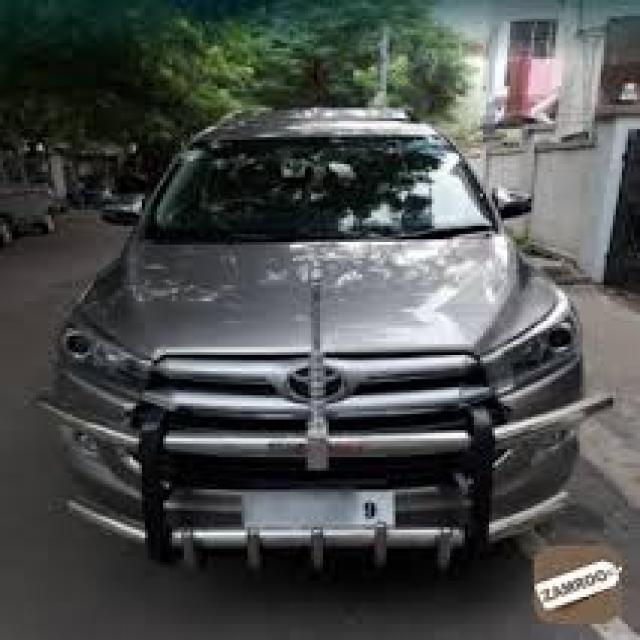cars: (42, 84, 608, 584)
